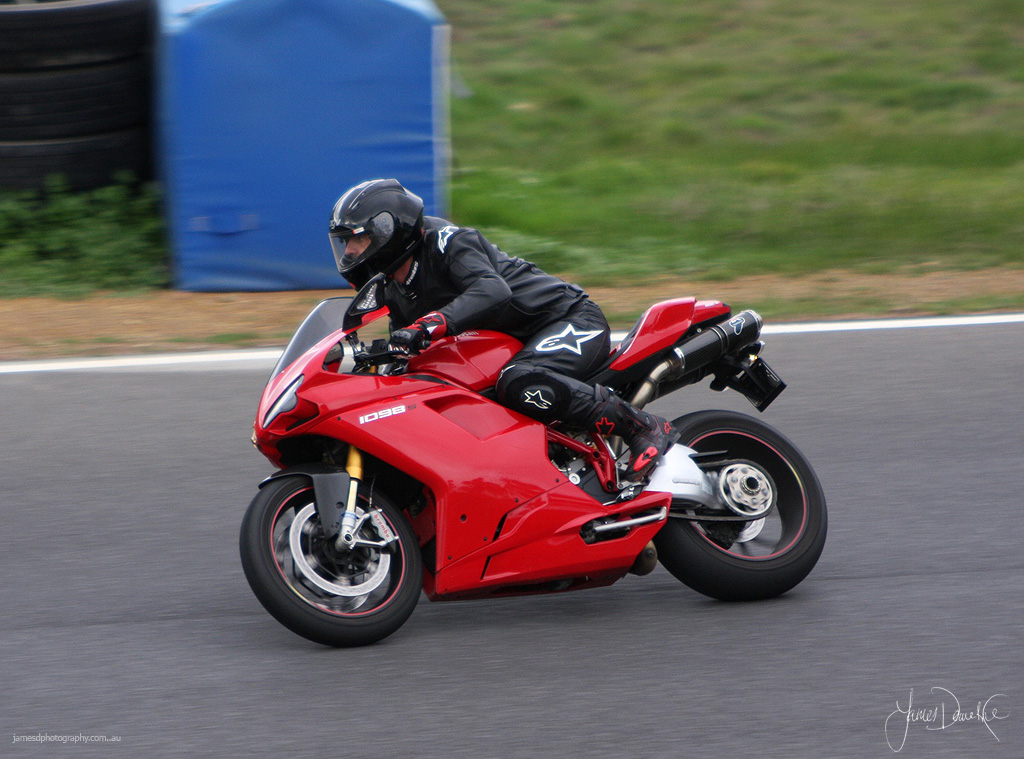helmet: (334, 175, 435, 280)
